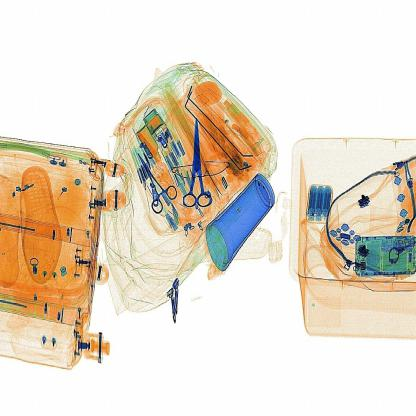gun: (177, 110, 220, 217)
